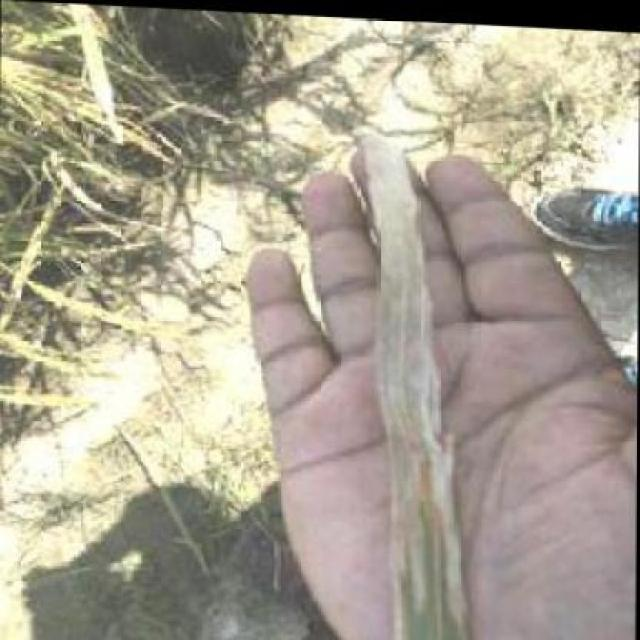Brown_Spot: (352, 112, 452, 516)
